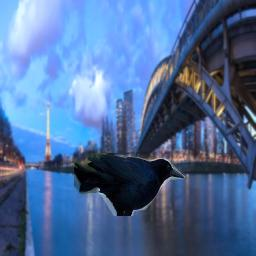Crow: (74, 153, 185, 216)
